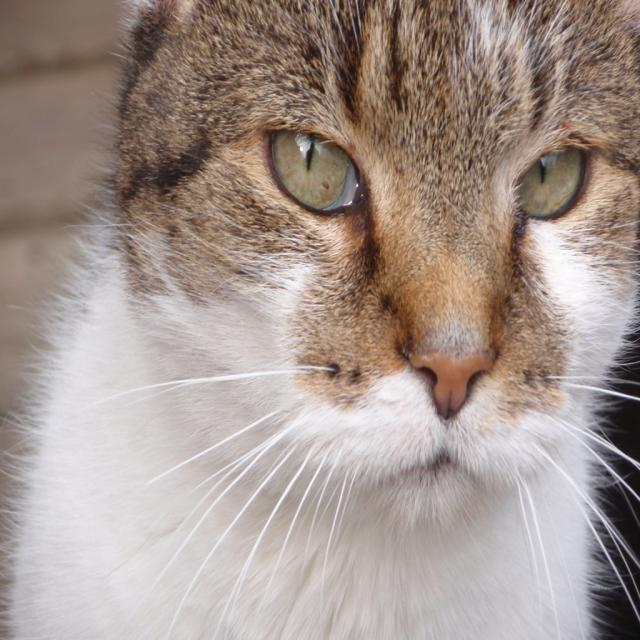Cat: (0, 0, 639, 637)
